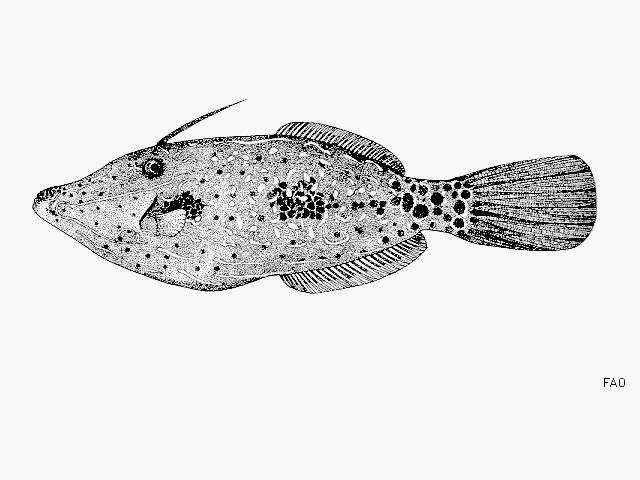Aluterus_scriptus: (18, 94, 615, 305)
